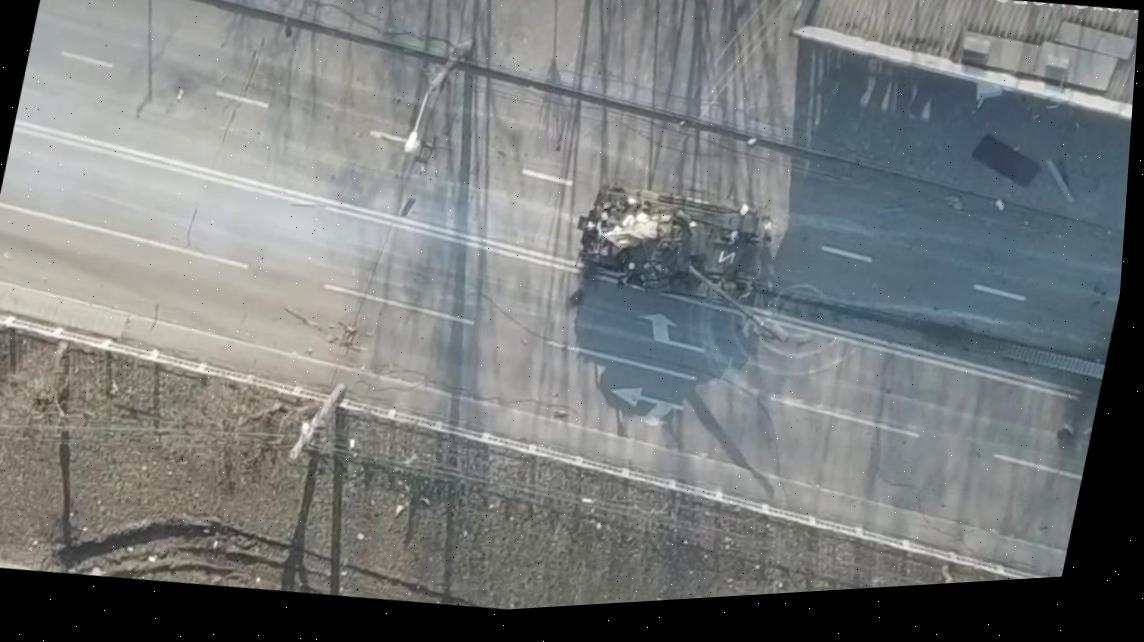tank: (552, 165, 818, 358)
